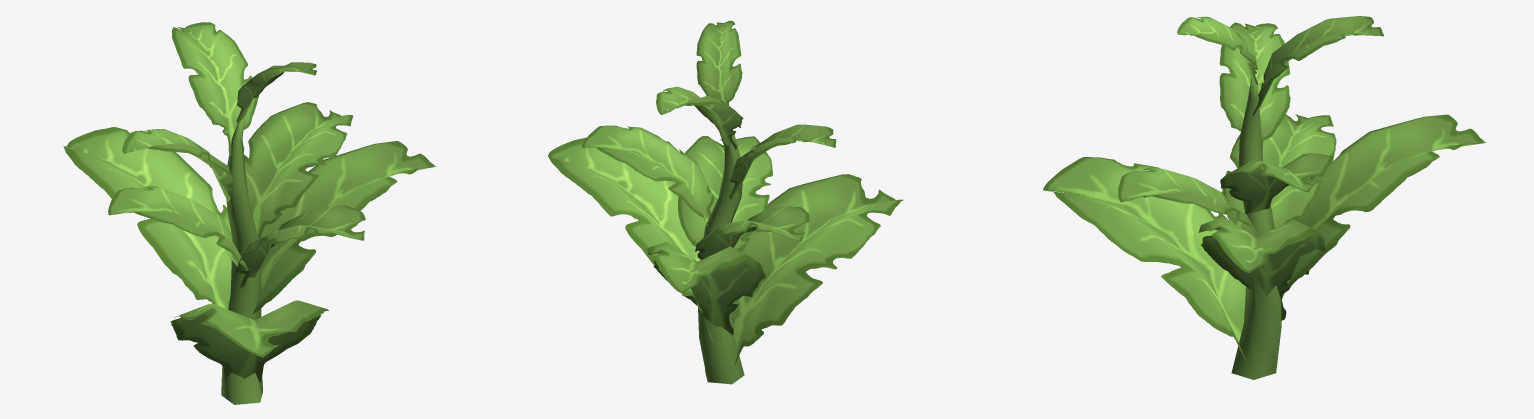
File: Ctn_groundPlant_03_v03.FBX
3 views of the same model, side by side, from view 1: azimuth 30°, elevation 25°; view 2: azimuth 150°, elevation 25°; view 3: azimuth 270°, elevation 25° (orthographic). The views are drawn at different scales.
Parts seen in each view (by area): view 1: Ctn_groundPlant_03_v03; view 2: Ctn_groundPlant_03_v03; view 3: Ctn_groundPlant_03_v03.
Boxes of the visible parts, x1,y1,x2,y2 form: Ctn_groundPlant_03_v03: (63,22,436,404); Ctn_groundPlant_03_v03: (547,20,903,384); Ctn_groundPlant_03_v03: (1043,16,1486,379).
Size of the model in its own units: 76.34 by 70.64 by 93.9.
